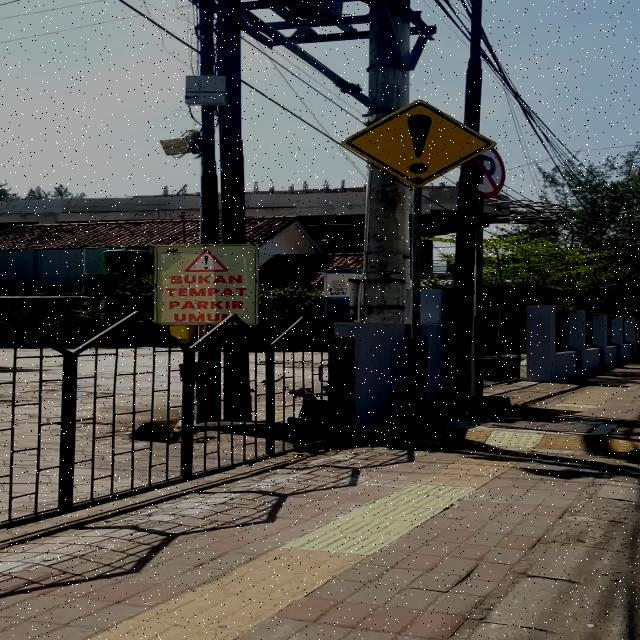Hati-Hati: (342, 99, 497, 187)
